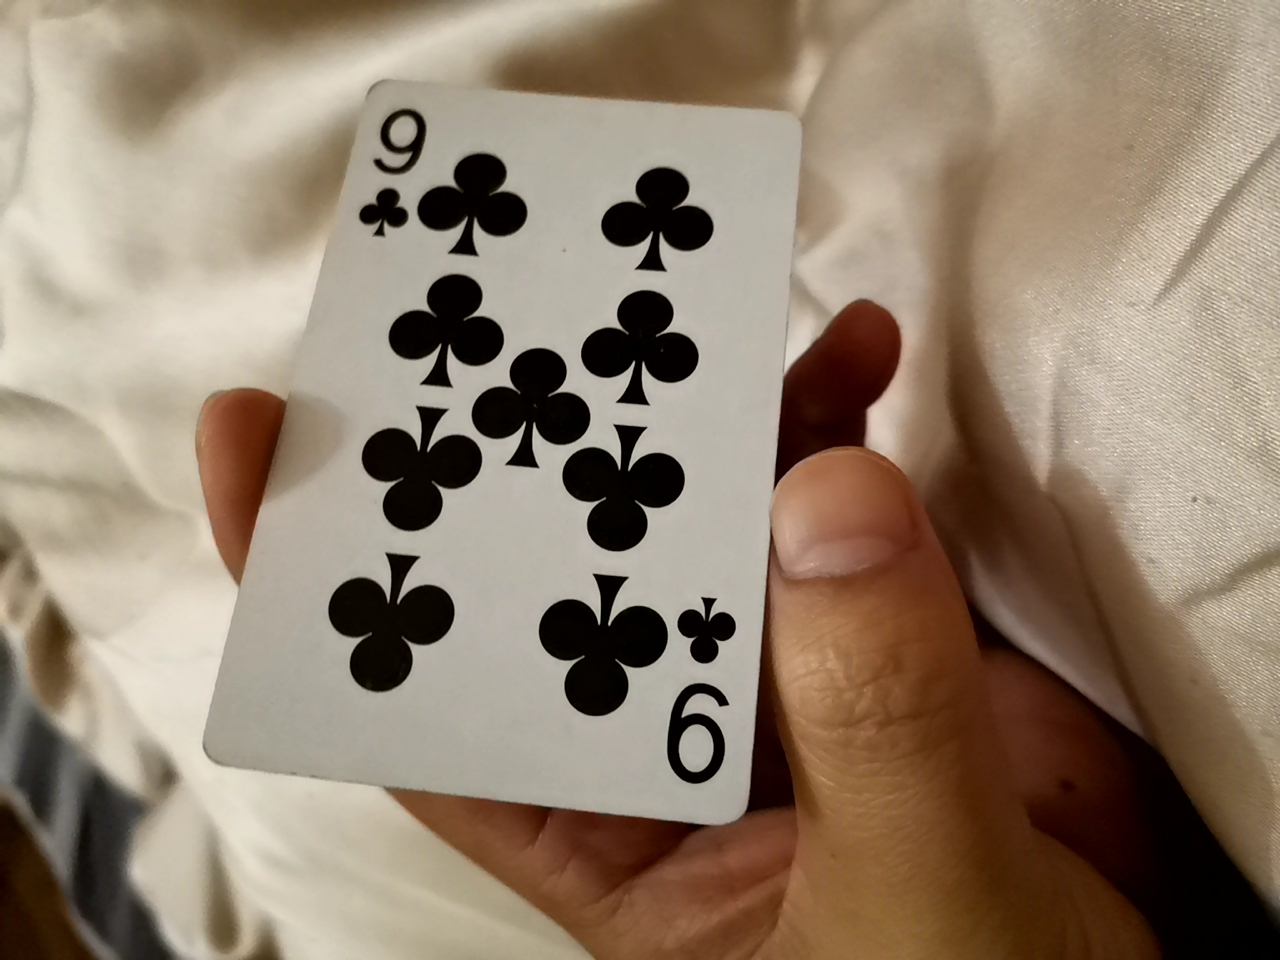mh 9: (205, 77, 823, 842)
